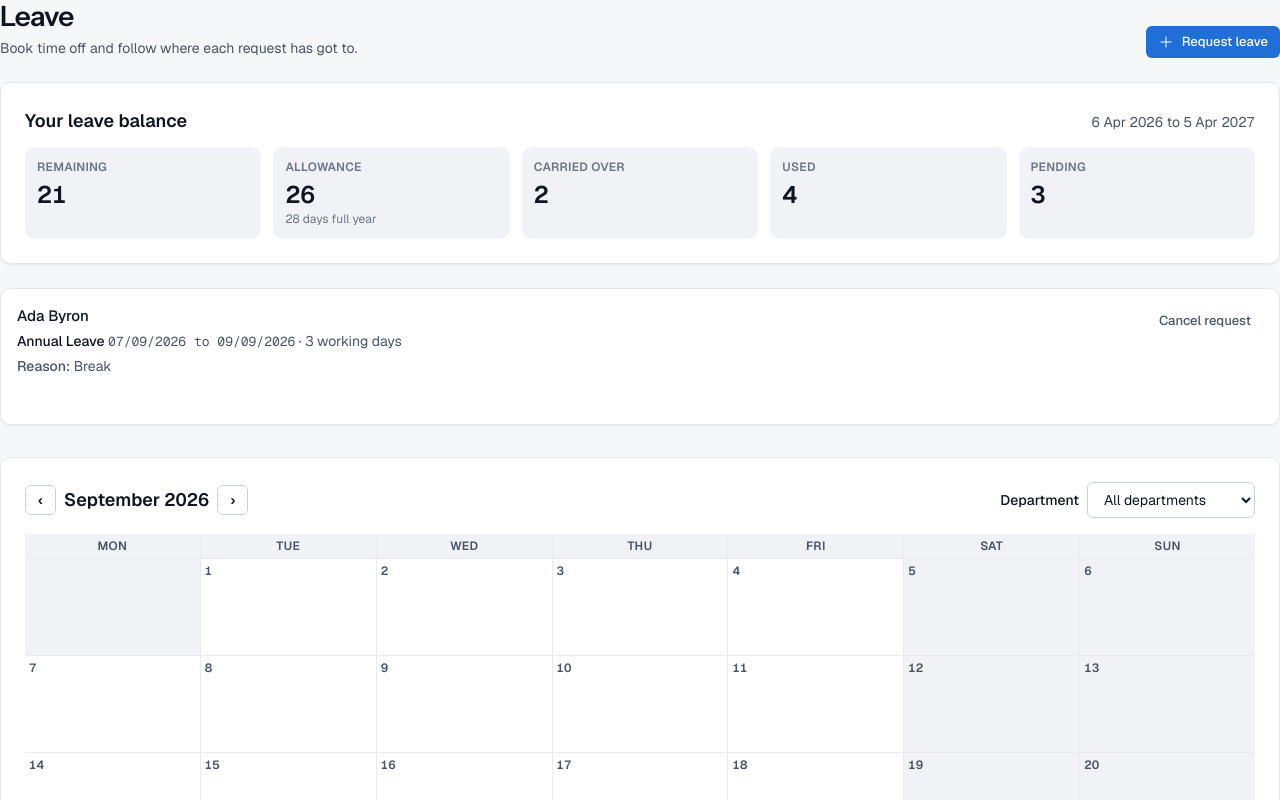
Test case: Leave page › surfaces a rejected submission inline instead of alerting
This screenshot has width=1280, height=800.
Click the button "Request leave" at (1213, 42), box [1146, 26, 1279, 58]
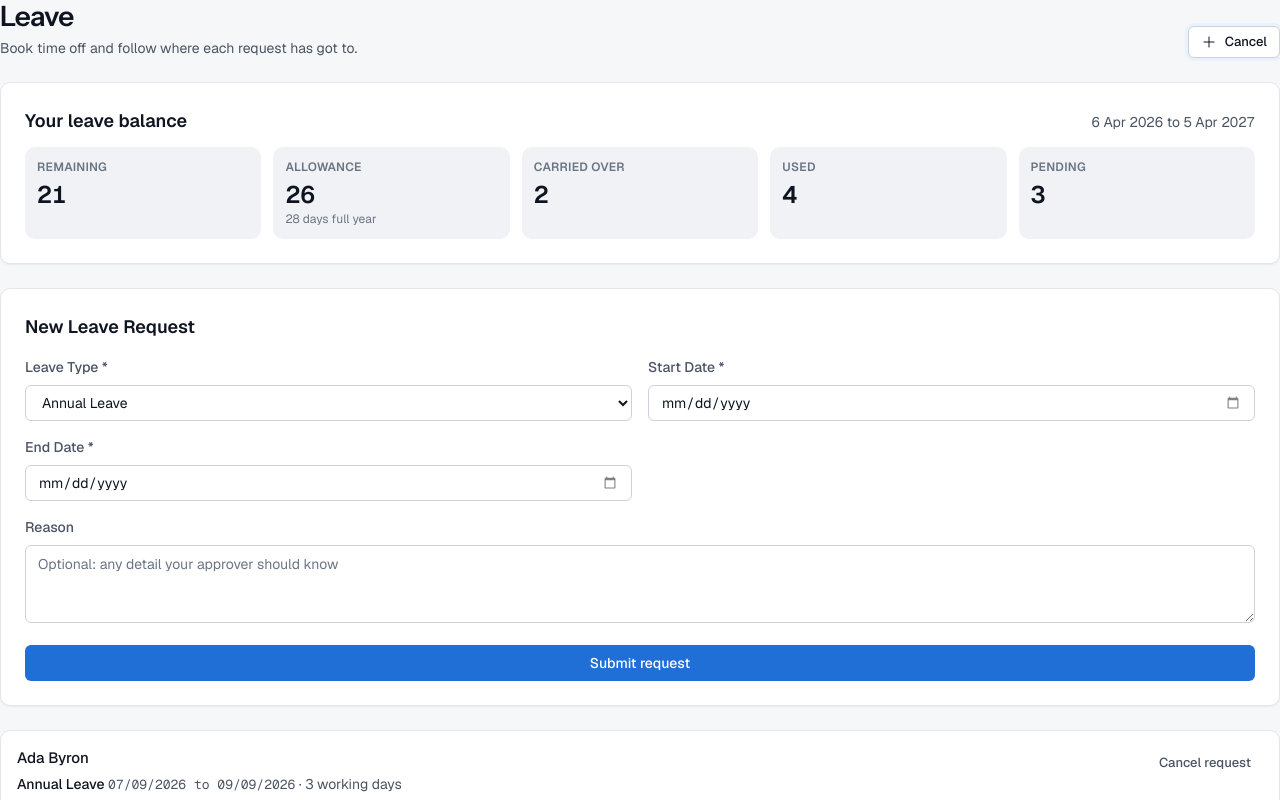
Type "2026-09-07" into the date field labelled "Start Date *" at (952, 403), box [648, 385, 1255, 421]
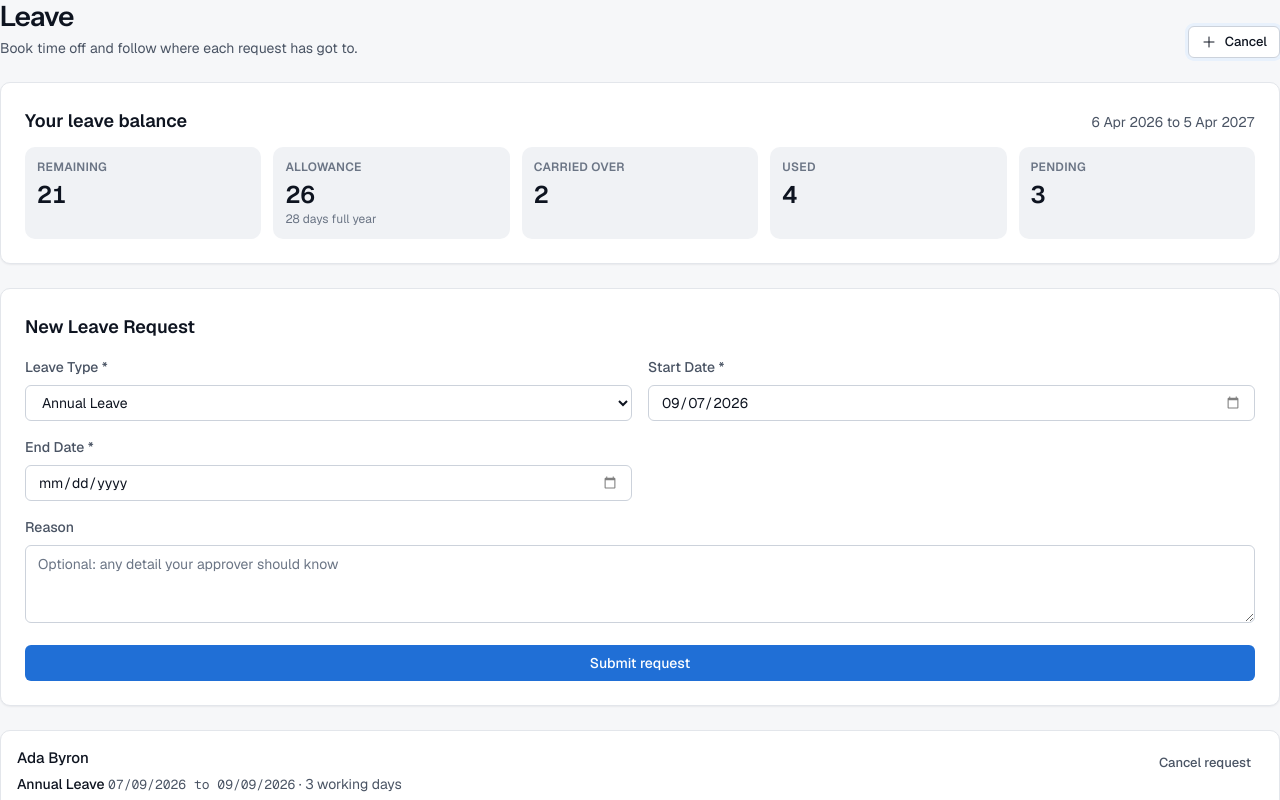
Type "2026-09-09" into the date field labelled "End Date *" at (328, 483), box [25, 465, 632, 501]
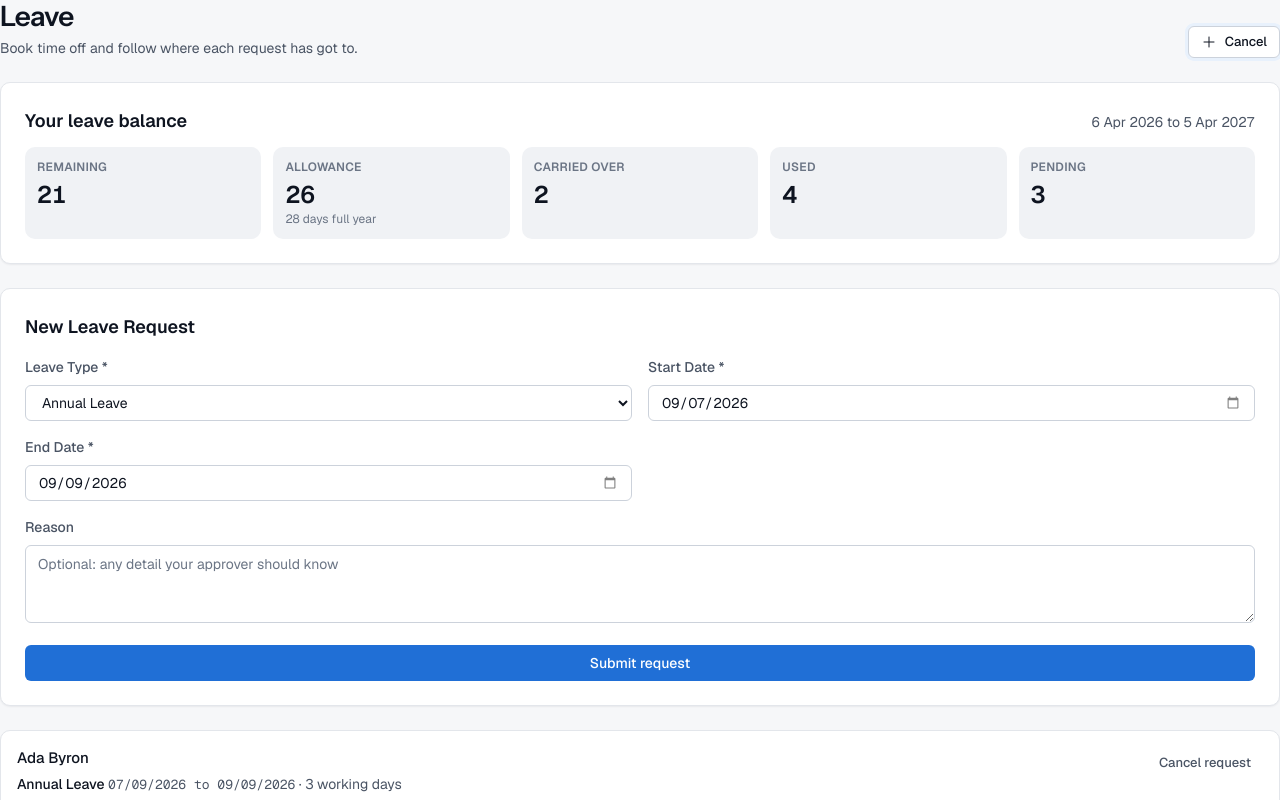
Click the button "Submit request" at (640, 663), box [25, 645, 1255, 681]
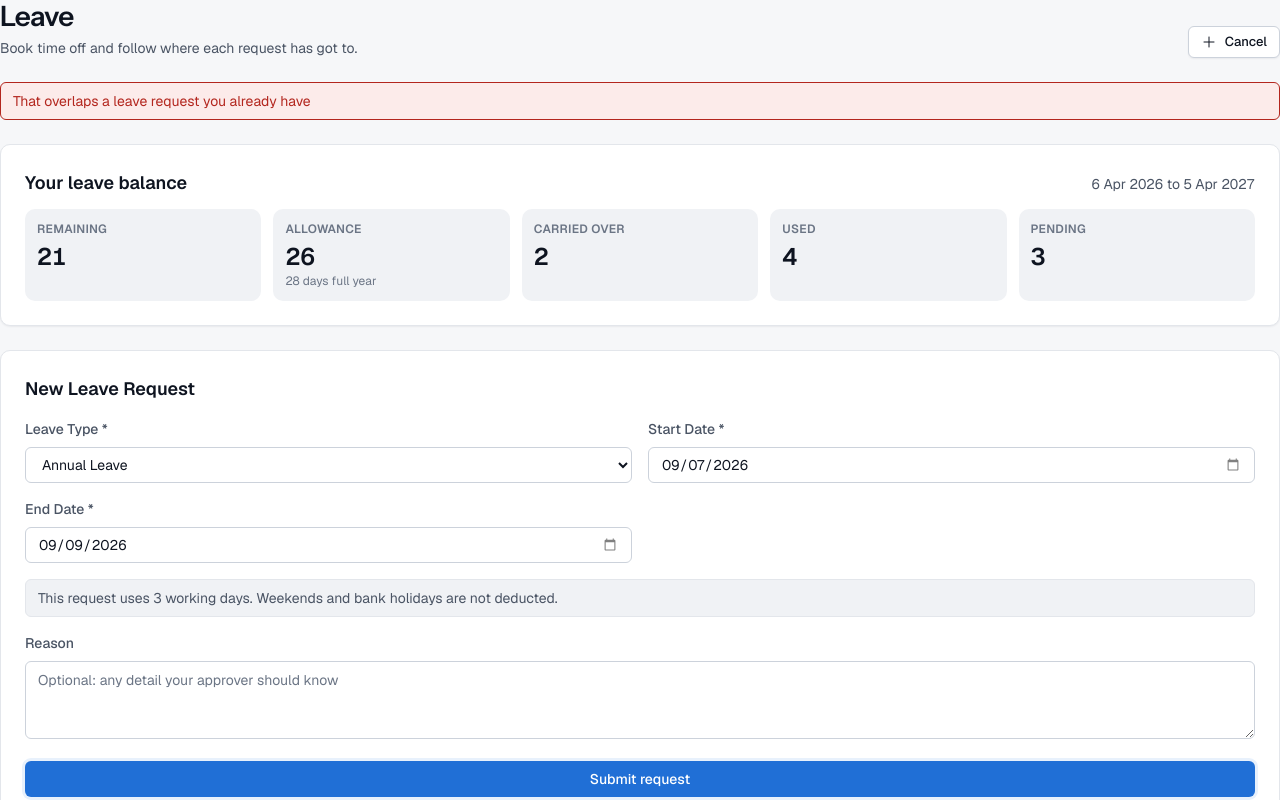
Expected: the message reads "That overlaps a leave request you already have", [13, 92, 311, 110]
